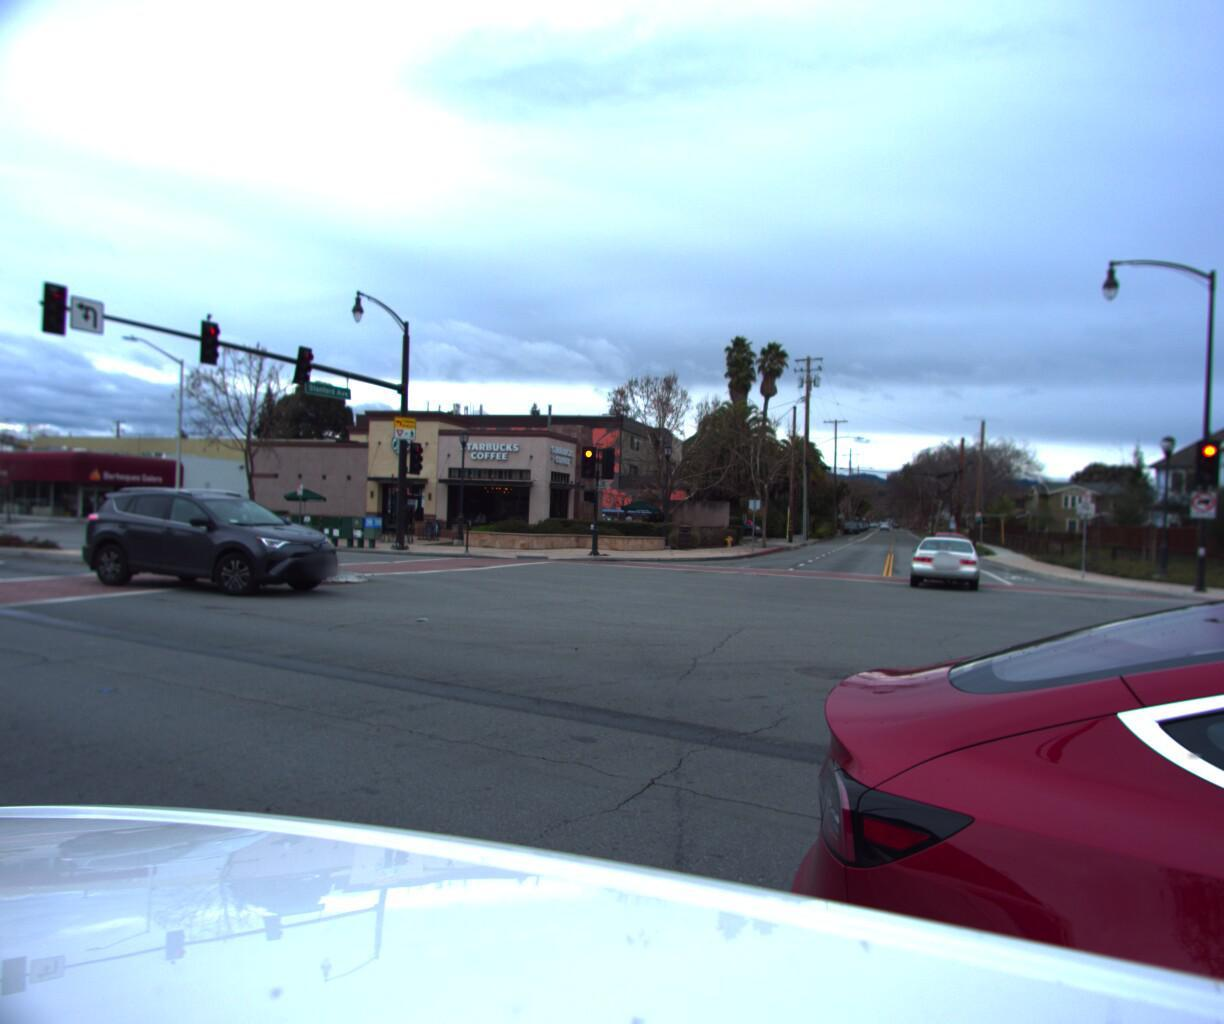car: (63, 487, 366, 605), (898, 531, 989, 590), (0, 495, 17, 573), (709, 516, 769, 537)
other_vehicle: (120, 488, 198, 529)
